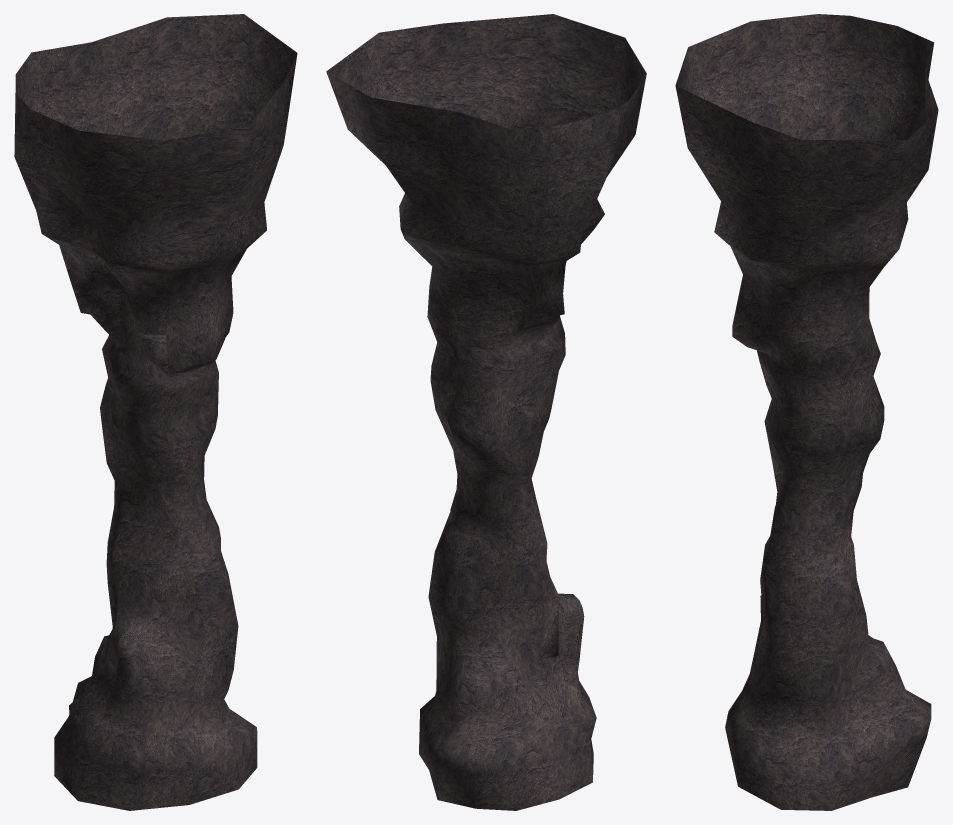
File: rock_pillar_06.fbx
3 renders of one model, left to right at view 1: azimuth 30°, elevation 25°; view 2: azimuth 150°, elevation 25°; view 3: azimuth 270°, elevation 25°, orthographic.
Parts seen in each view (by area): view 1: rock_pillar_06; view 2: rock_pillar_06; view 3: rock_pillar_06.
Part boxes in pixels (x1,y1,x2,y2): rock_pillar_06: [14, 14, 297, 810]; rock_pillar_06: [326, 14, 646, 810]; rock_pillar_06: [675, 14, 938, 810].
Bounding box in the file's own units: 56.02 × 146 × 49.49.
